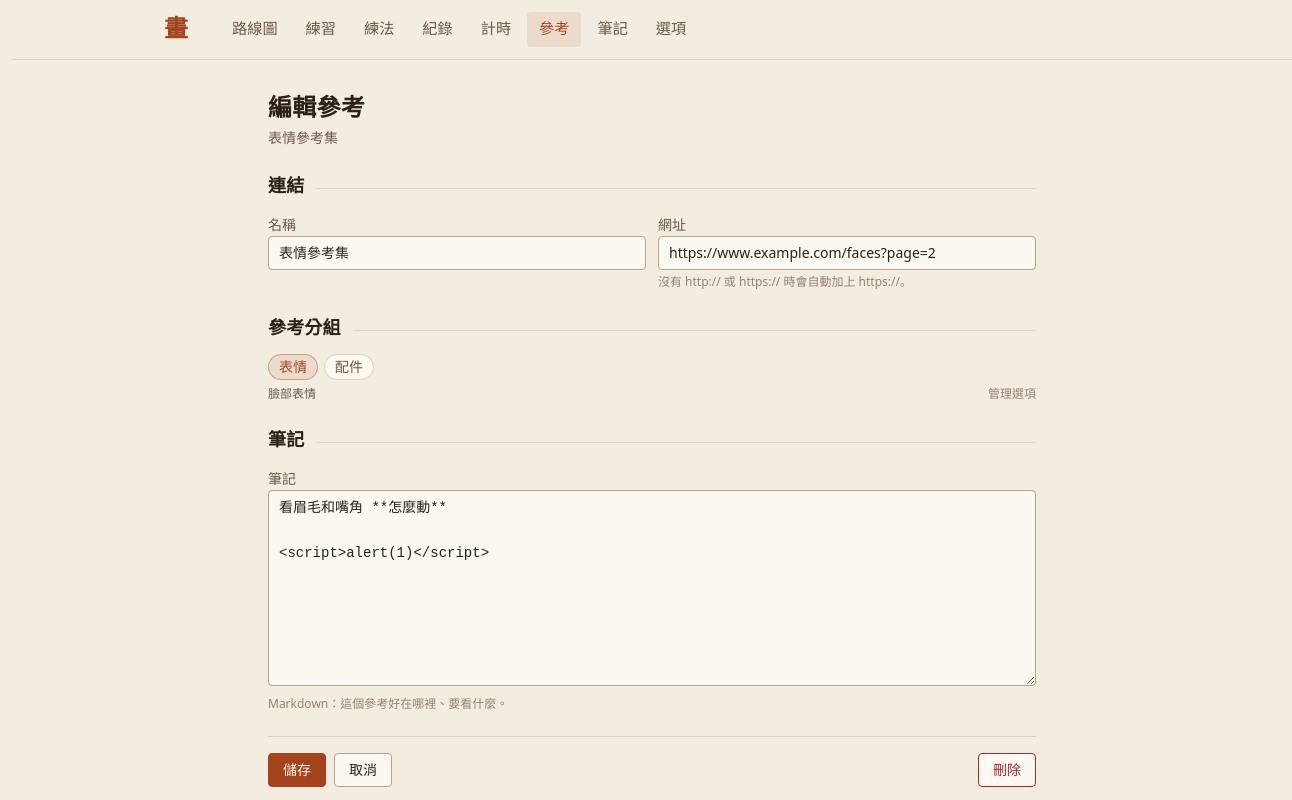
it: the reference form › loads an existing reference and PATCHes it, replacing the groups
The image size is (1292, 800).
Check: the field showing "表情參考集" is shown, box [268,236,646,270]
Click the button "表情" at (293, 367), box [268,354,318,380]
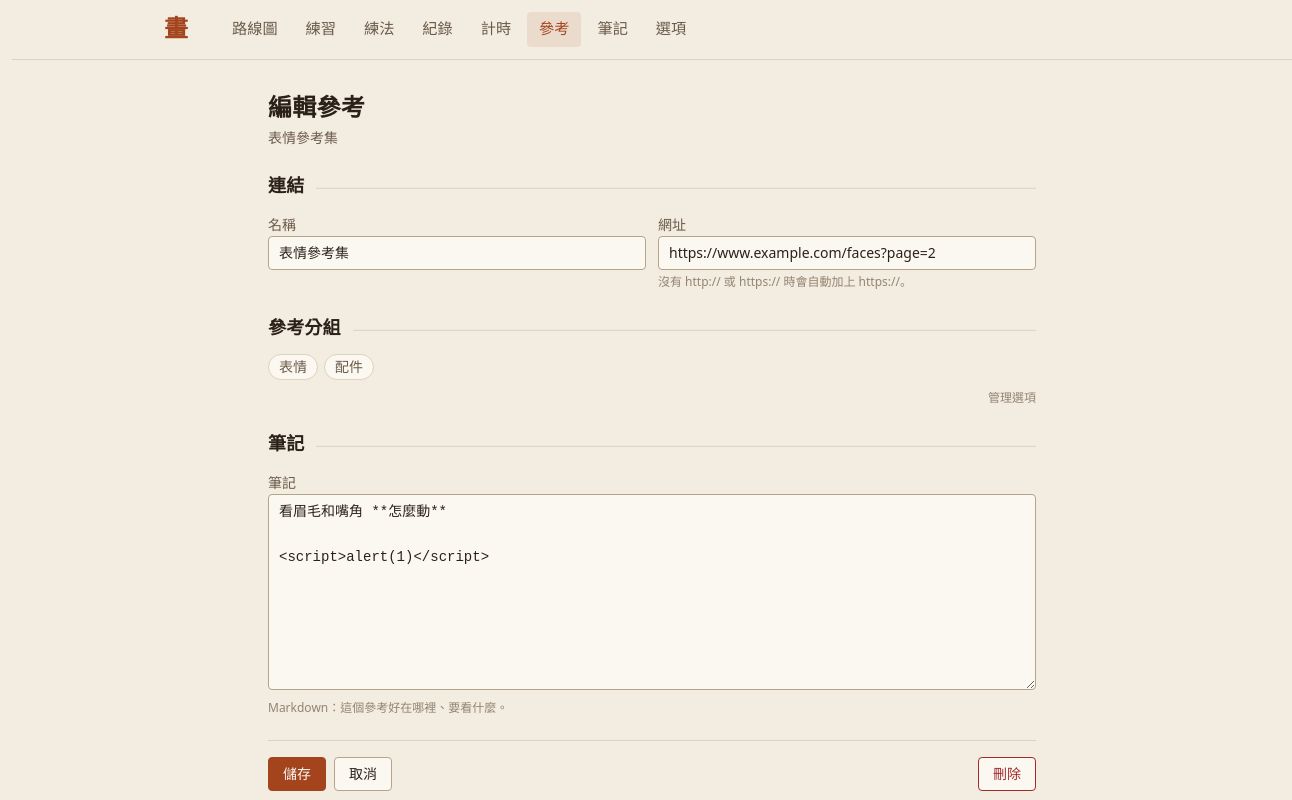
Click the button "儲存" at (297, 774), box [268,757,326,791]
(page scrolled)
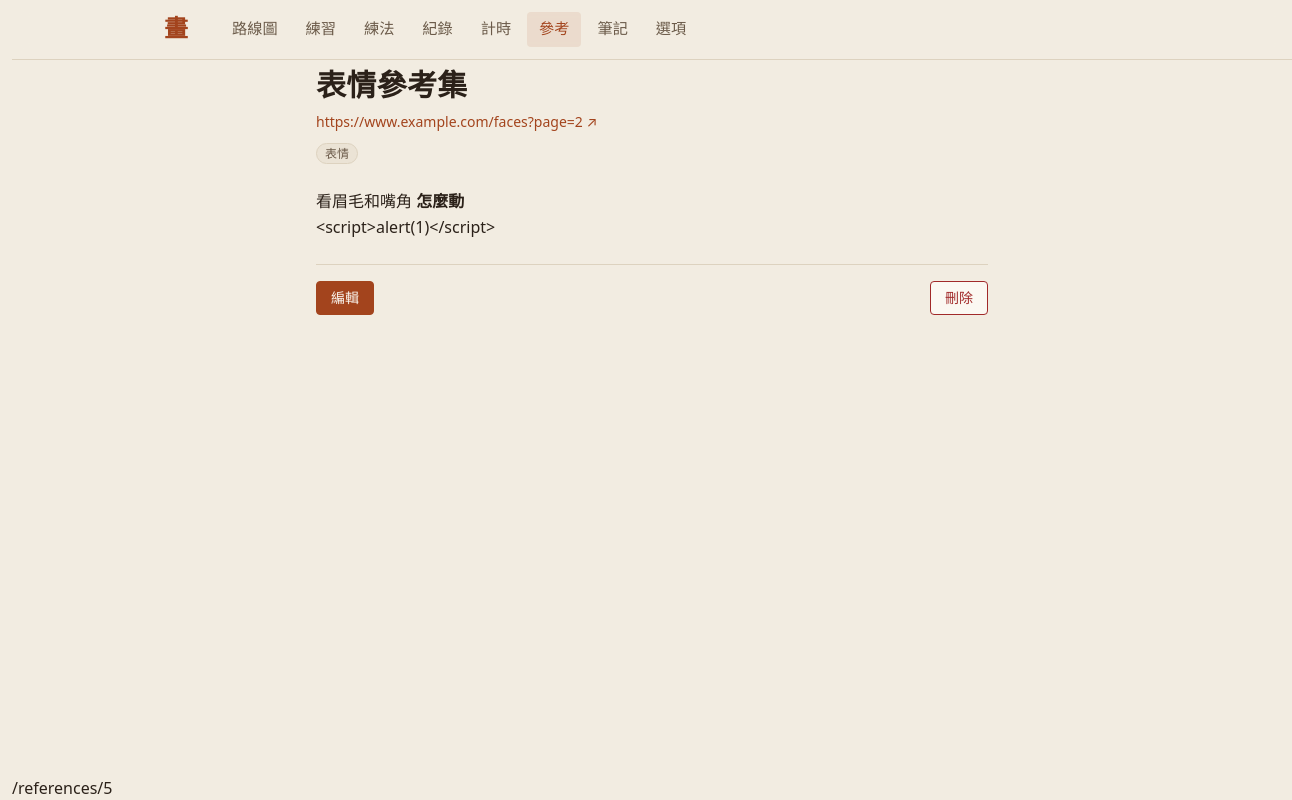
Check: the text with test id "location" reads "/references/5", box [12,777,112,799]
